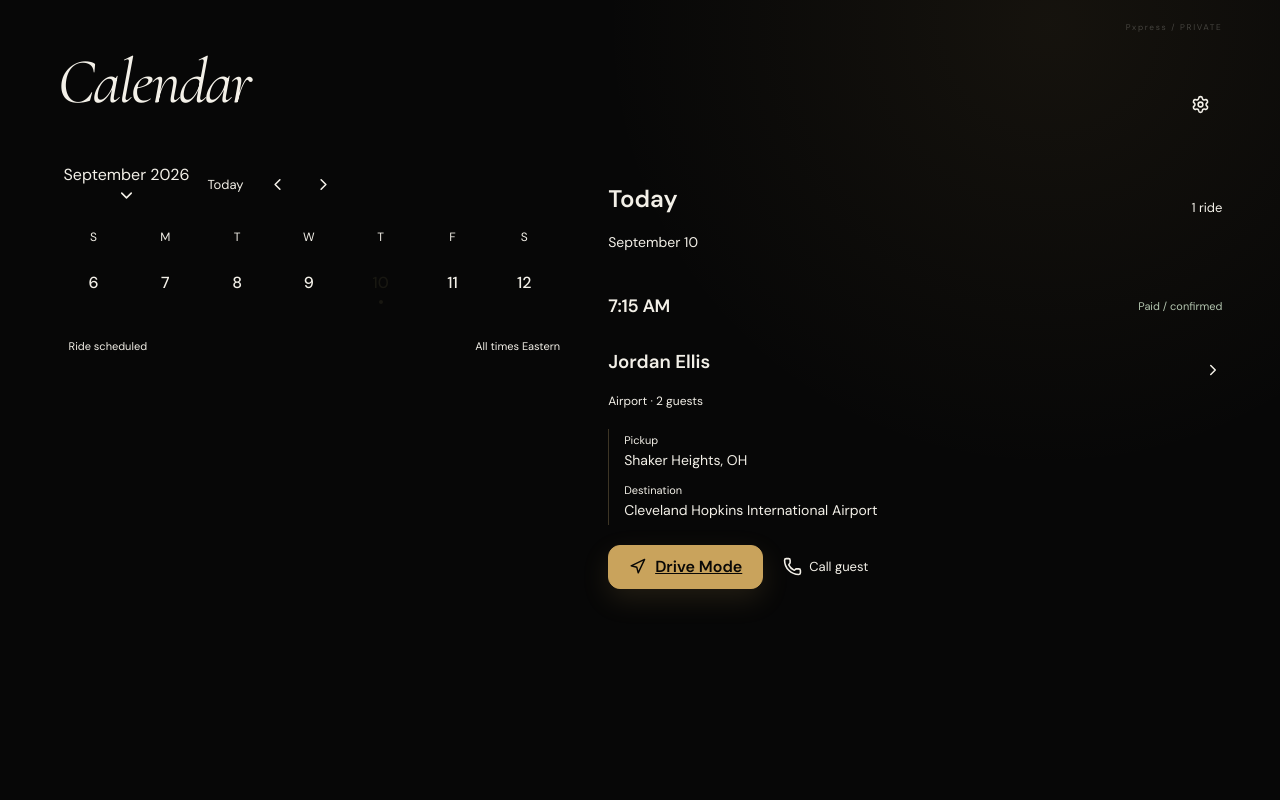
Scenario: owner calendar › shows one selected day and no connection diagnostics
expect the element named "Selected day rides" is shown: met, box x1=608 y1=163 x2=1222 y2=616
expect the heading "Jordan Ellis" is shown: met, box x1=608 y1=349 x2=710 y2=374
What coordinates should you click on to do the following:
click the button named "Next week"
I would click on:
 (324, 185)
Its box is x1=302 y1=163 x2=346 y2=207.
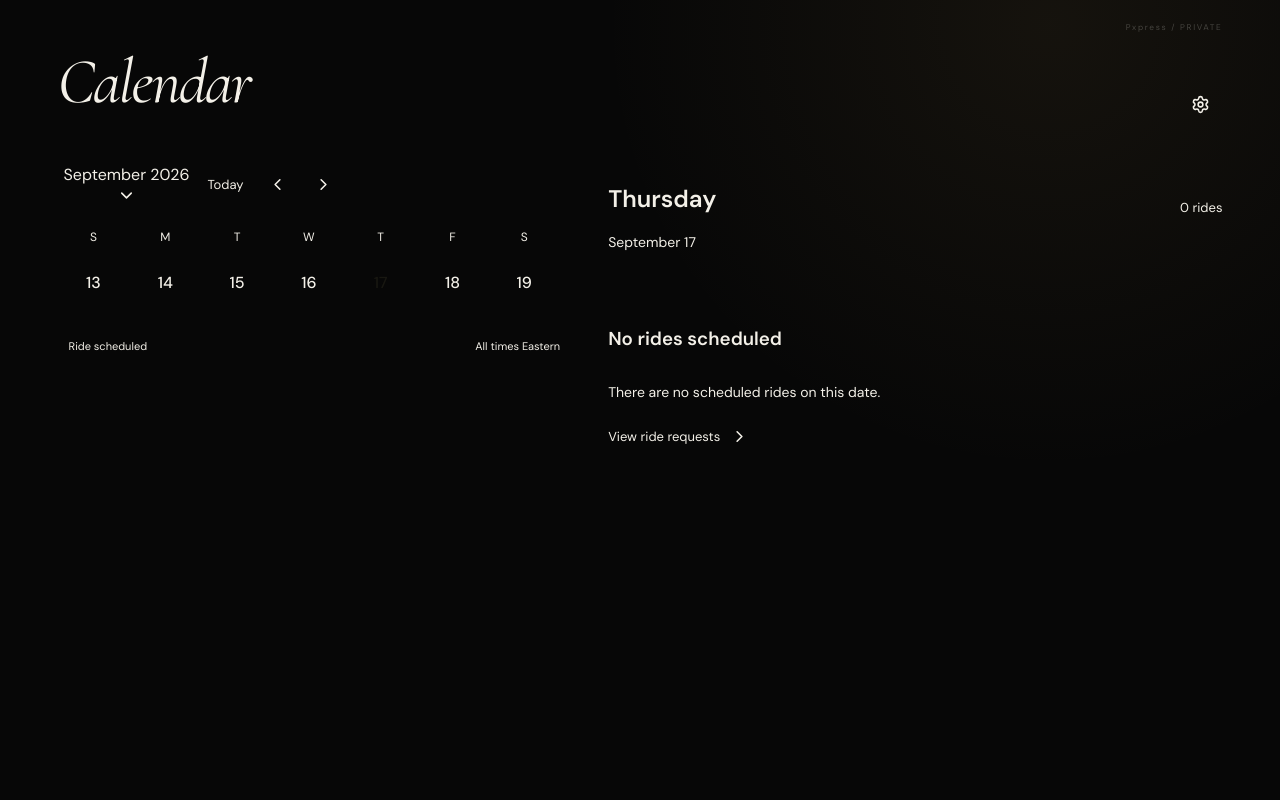
expect the link "Jordan Ellis" is gone: met
What coordinates should you click on to do the following:
click the button "Today"
I would click on:
 (225, 185)
Its box is x1=197 y1=163 x2=254 y2=207.
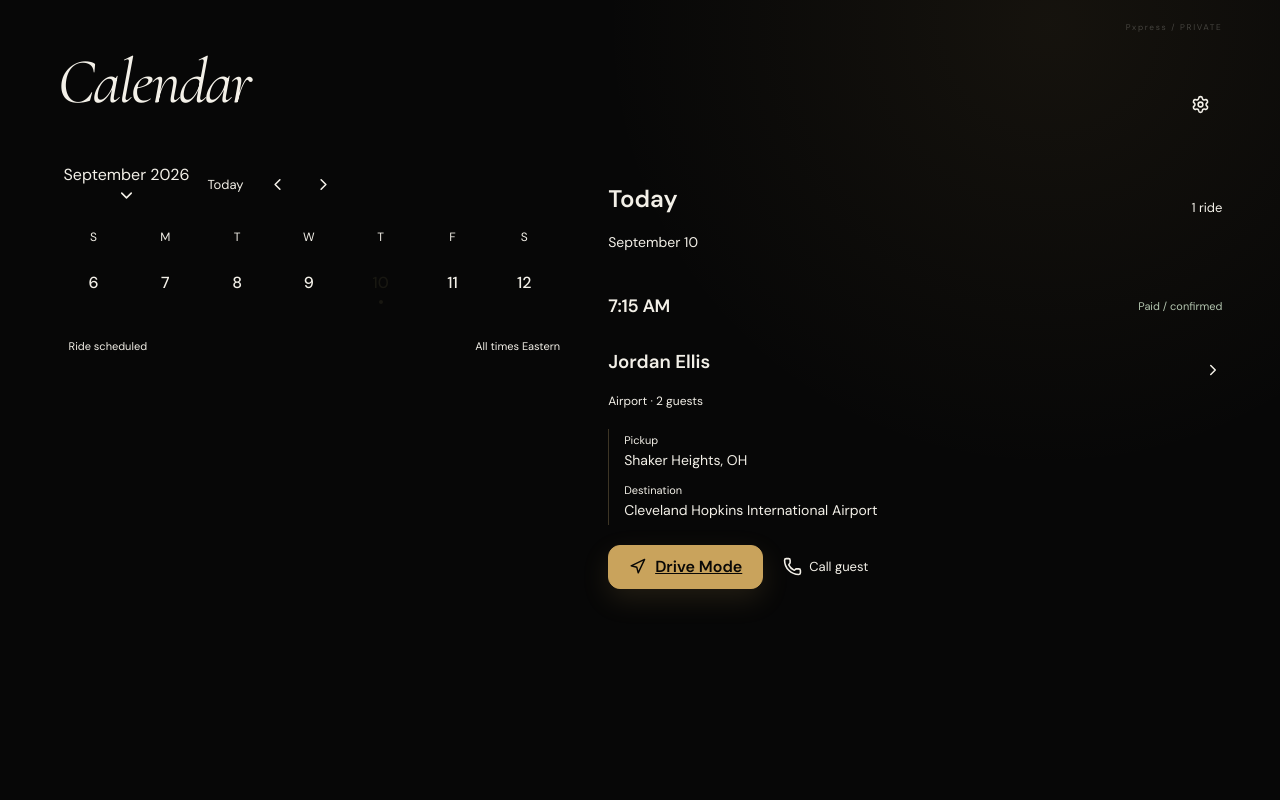
expect the heading "Jordan Ellis" is shown: met, box x1=608 y1=349 x2=710 y2=374
What coordinates should you click on to do the following:
click the button named "Show month"
I would click on:
 (126, 185)
Its box is x1=58 y1=163 x2=195 y2=207.
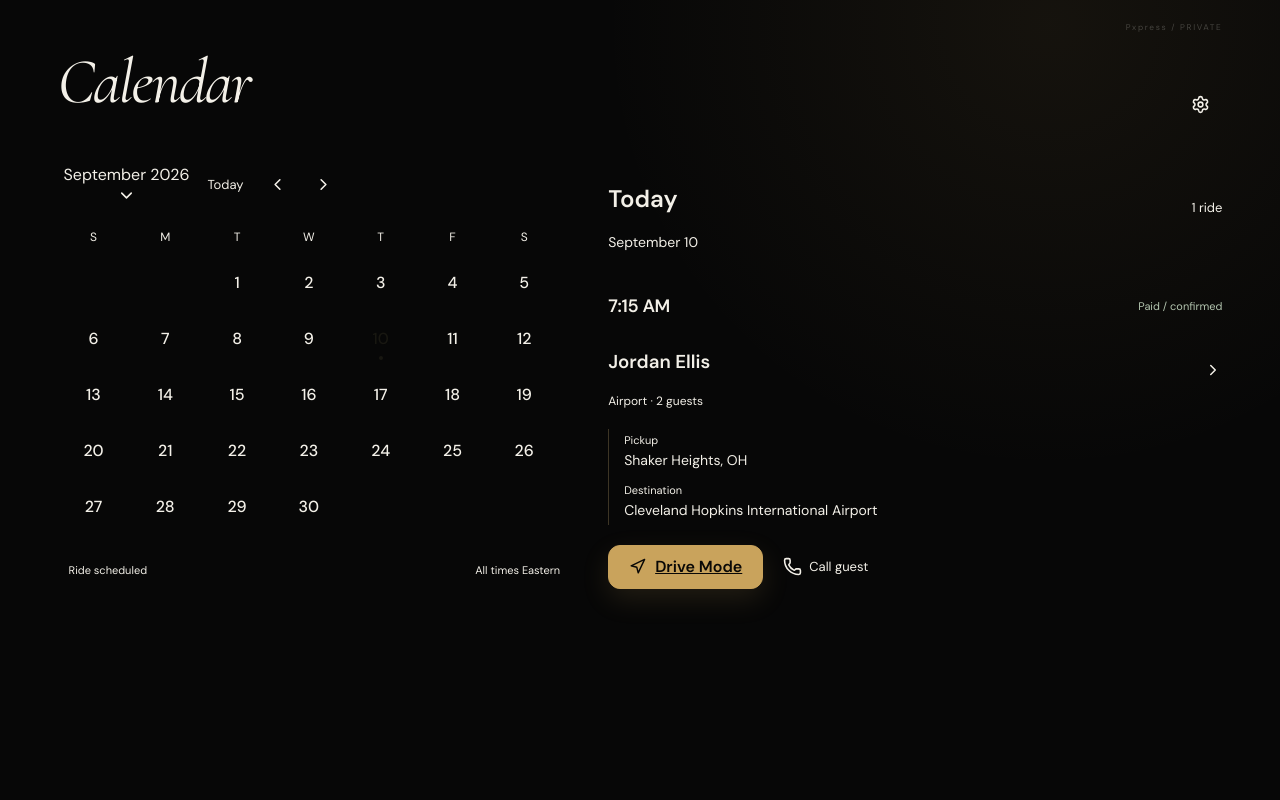
What coordinates should you click on to do the following:
click the button named "Next month"
I would click on:
 (324, 185)
Its box is x1=302 y1=163 x2=346 y2=207.
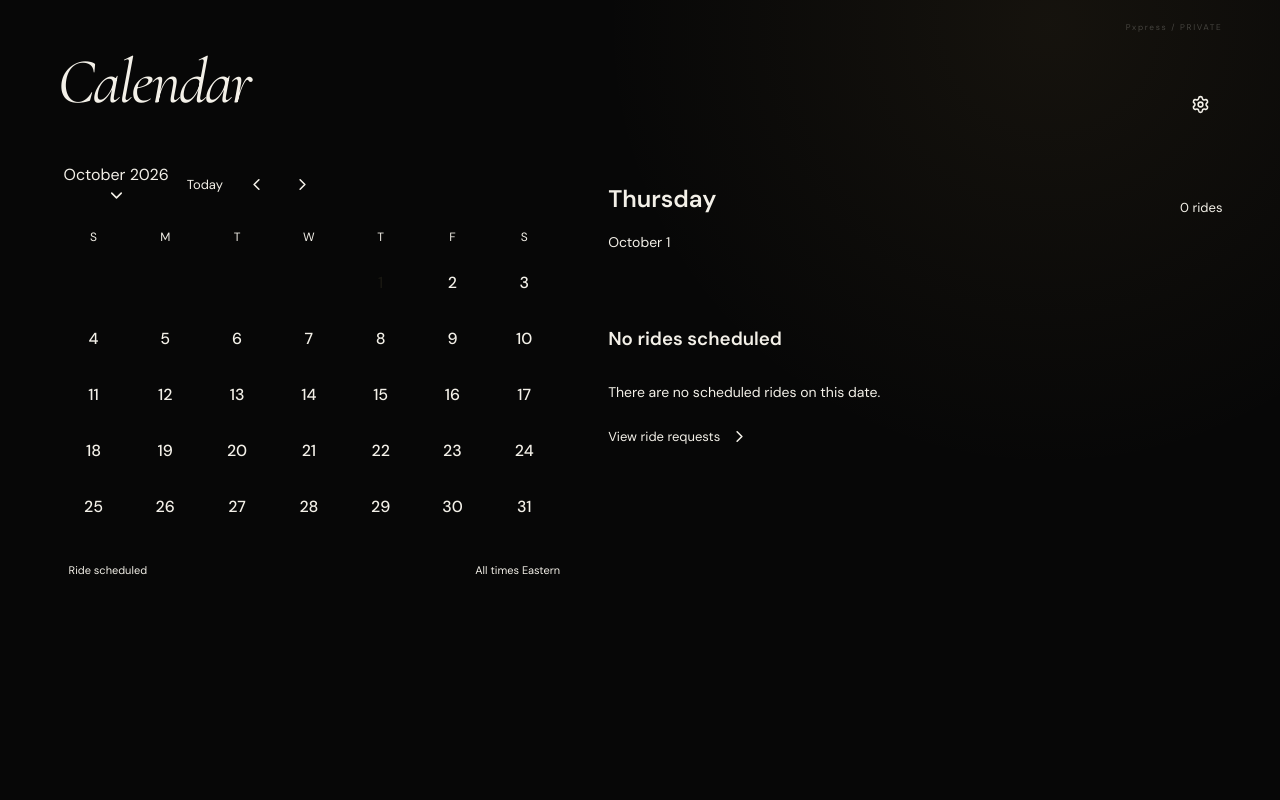
expect the link "Jordan Ellis" is gone: met
What coordinates should you click on to do the following:
click the button "Today"
I would click on:
 (205, 185)
Its box is x1=177 y1=163 x2=233 y2=207.
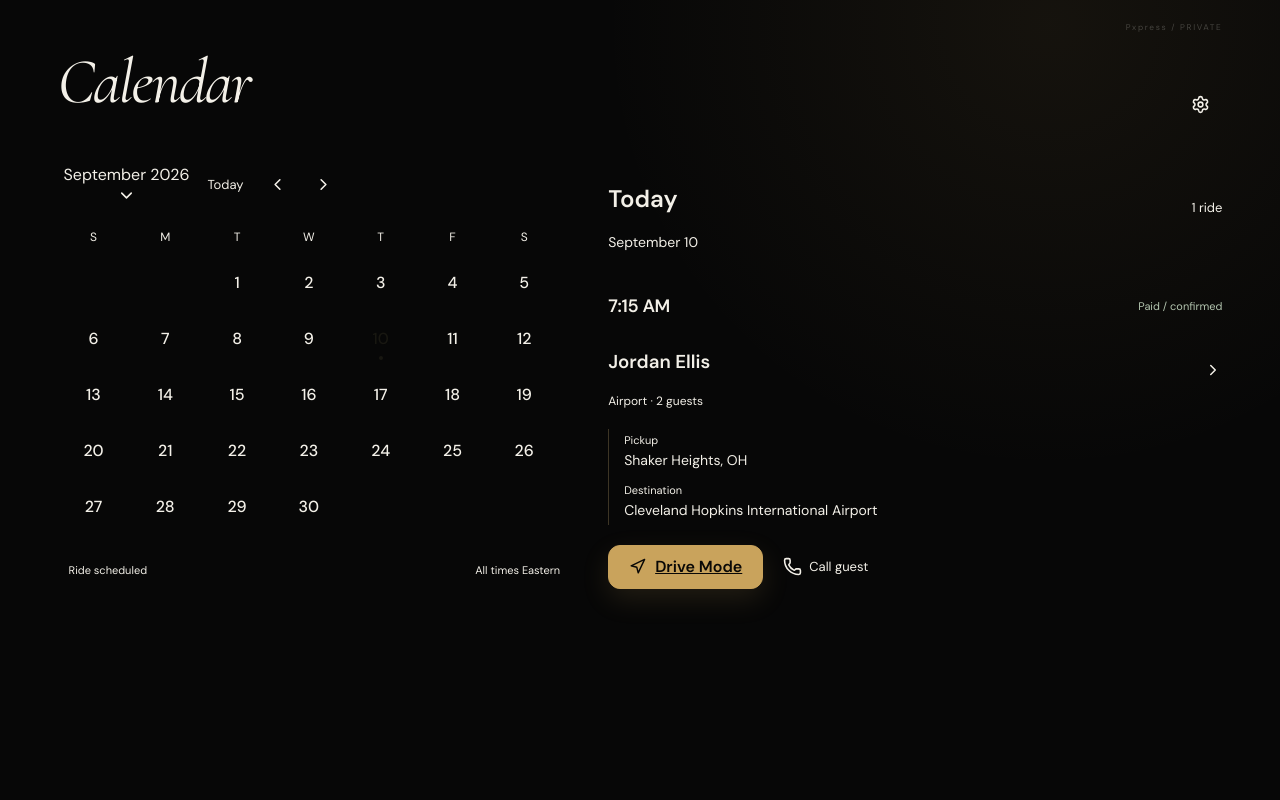
expect the heading "Jordan Ellis" is shown: met, box x1=608 y1=349 x2=710 y2=374
